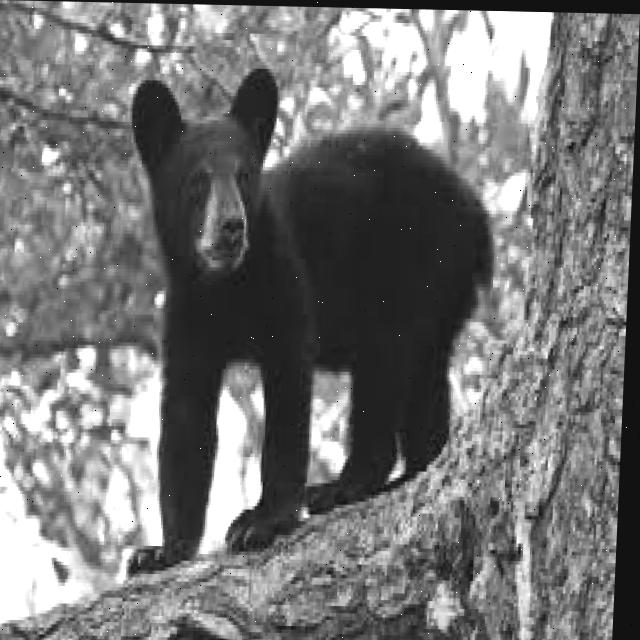Bear: (110, 63, 504, 581)
